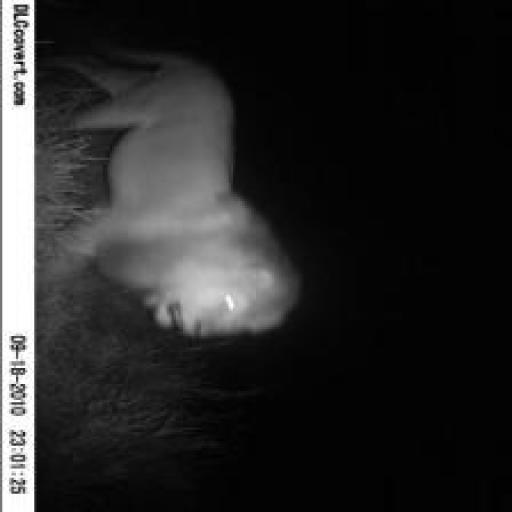lion: (43, 46, 304, 354)
